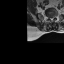CCS_severe_stenosis: (51, 16, 52, 21)
LFS_severe_stenosis: (53, 15, 55, 19)
LLS_normal: (52, 16, 53, 21)
RFS_severe_stenosis: (48, 16, 49, 20)
RLS_normal: (50, 16, 51, 20)
